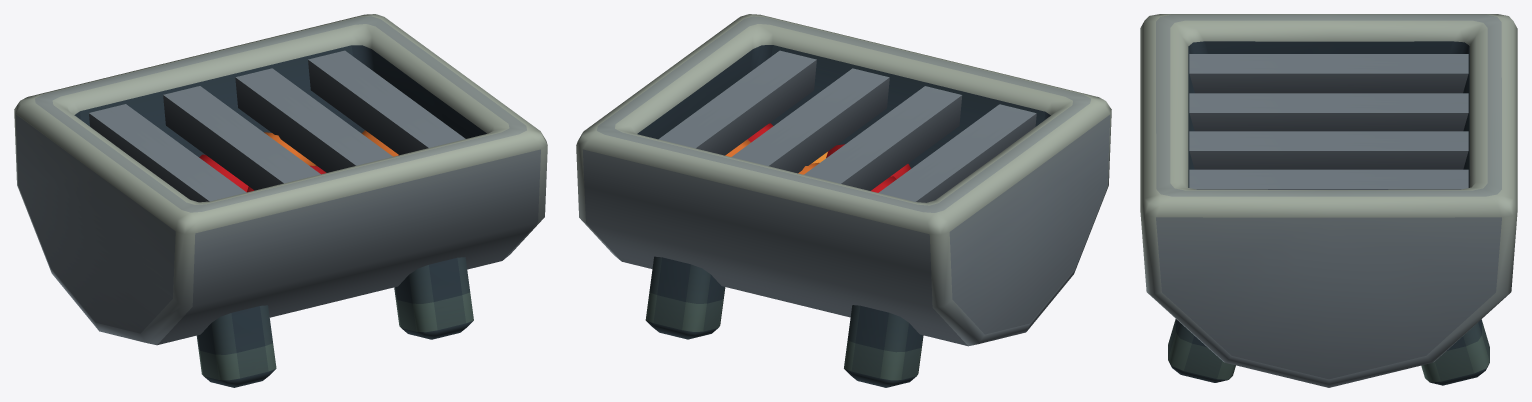
File: grill1_LOD_setup.fbx
The picture shows the model from 3 angles, left to right: view 1: azimuth 30°, elevation 25°; view 2: azimuth 150°, elevation 25°; view 3: azimuth 270°, elevation 25°; orthographic projection. The views are drawn at different scales.
Visible parts, largest first — view 1: grill1_LOD0; view 2: grill1_LOD0; view 3: grill1_LOD0.
Boxes of the visible parts, left/top/right/bottom form: grill1_LOD0: left=14, top=14, right=547, bottom=387; grill1_LOD0: left=576, top=14, right=1111, bottom=387; grill1_LOD0: left=1140, top=14, right=1517, bottom=387.
Size of what is drawn, in the model's own units: 100 by 52.21 by 81.55.
